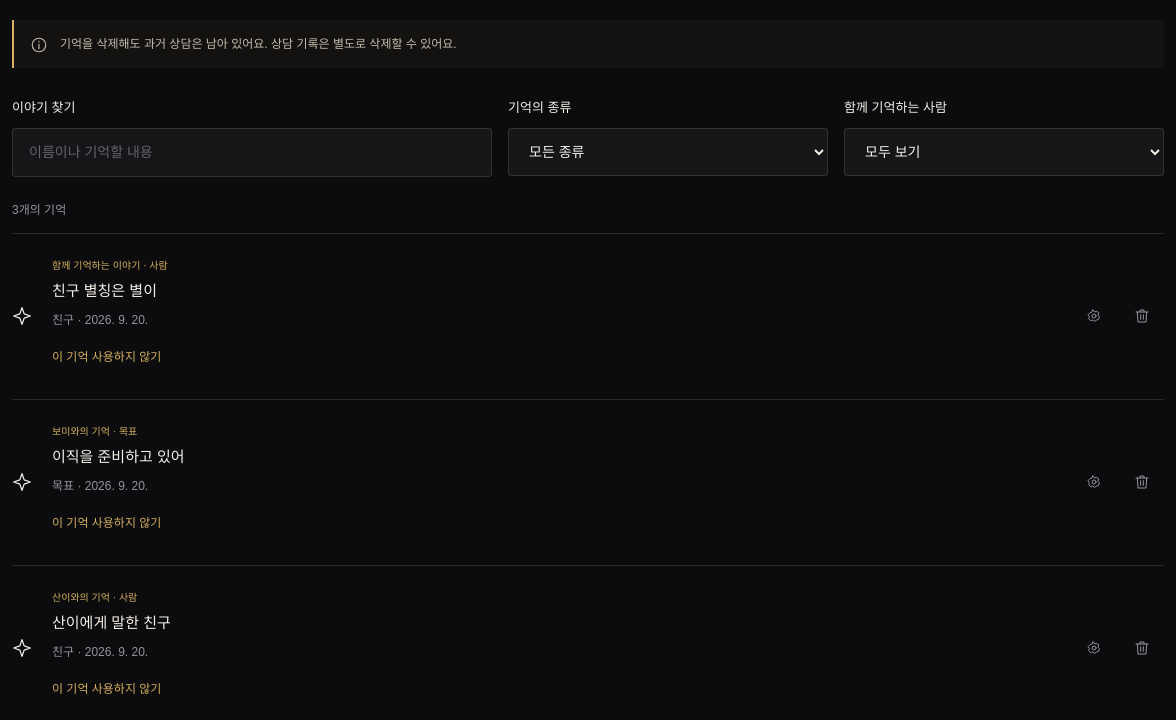
Test: memory management › filters category and character without modifying stored memories
Check: the heading "친구 별칭은 별이" is shown, box [52,282,157,299]
Select "사람" in the dropdown labelled "기억의 종류" at point(668, 152), box [508,128,828,176]
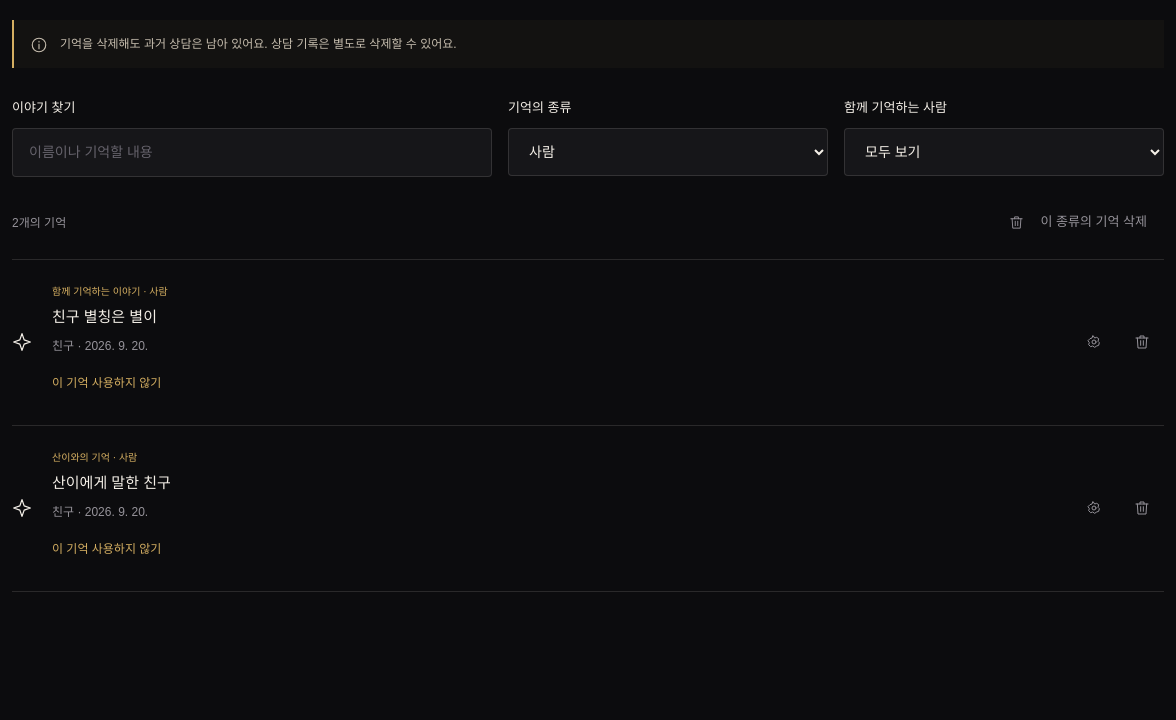
Select "SANI" in the dropdown labelled "함께 기억하는 사람" at point(1004, 152), box [844,128,1164,176]
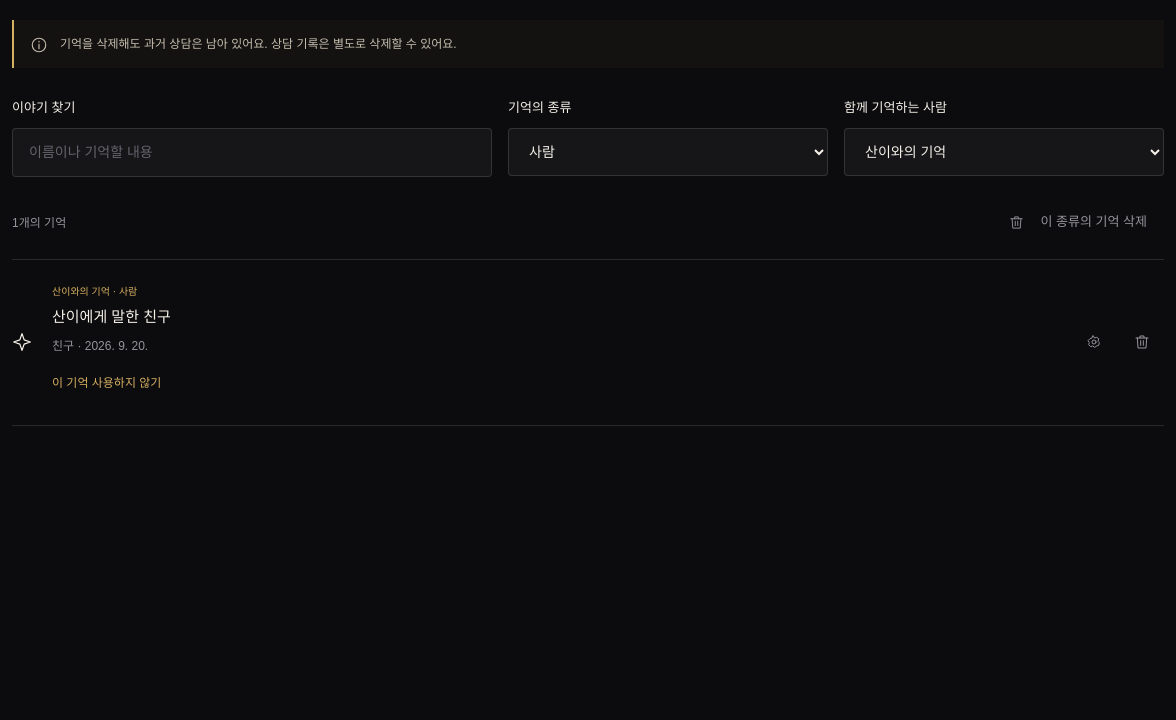
Check: the heading "산이에게 말한 친구" is shown, box [52,308,171,325]
Check: the heading "친구 별칭은 별이" is gone
